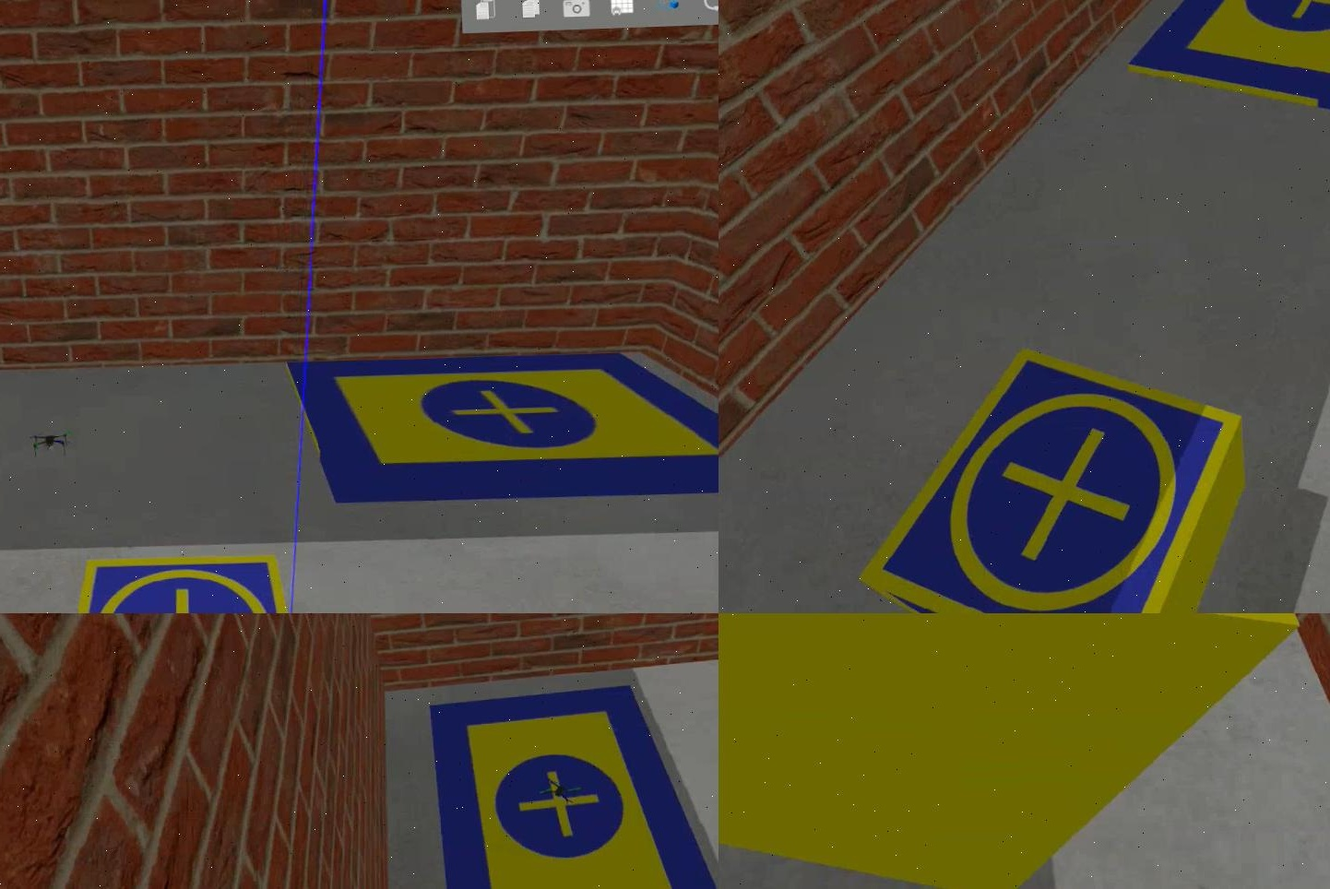large_base: (288, 341, 717, 508), (431, 680, 717, 889), (1120, 1, 1328, 126)
small_base: (853, 336, 1249, 613), (45, 550, 306, 613)
